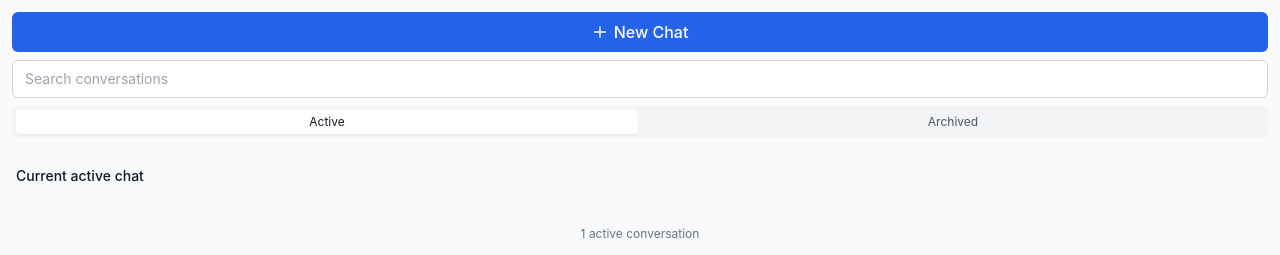
Test: ConversationList integration › shows archived conversations when archived tab is selected
Expected: the text "Old archived chat" is not shown
Click the button "Archived": (953, 122) [642, 110, 1264, 134]
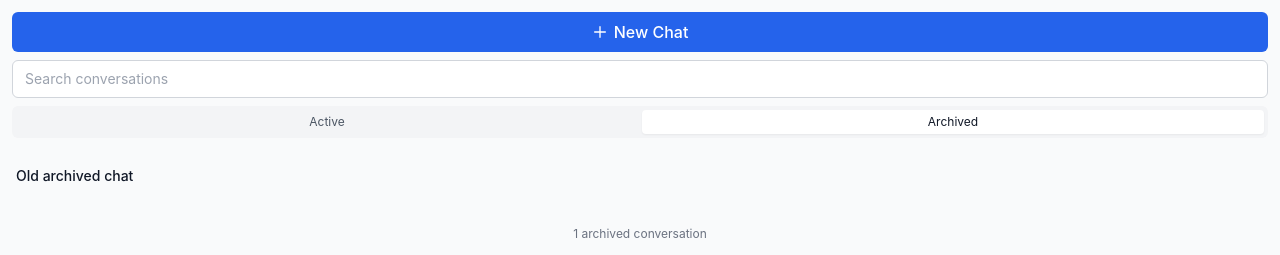
Expected: the text "Old archived chat" is shown, [16, 166, 133, 186]
Expected: the text "Current active chat" is gone
